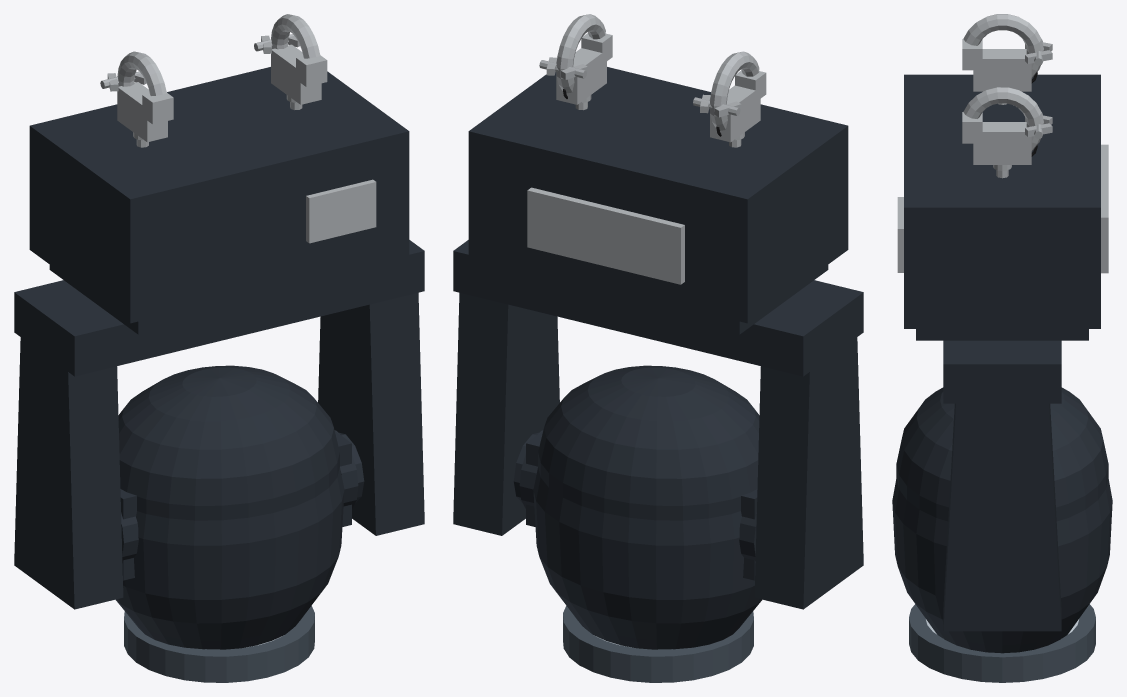
File: moving-head-wash.glb
The picture shows the model from 3 angles, left to right: view 1: azimuth 30°, elevation 25°; view 2: azimuth 150°, elevation 25°; view 3: azimuth 270°, elevation 25°; orthographic projection. The views are drawn at different scales.
Visible parts, largest first — view 1: moving-base, head-body, yoke-left, yoke-right, yoke-crossbar, truss-coupler, lens-ring, base-display, head-cheeks, truss-coupler-bolt; view 2: moving-base, head-body, yoke-left, yoke-right, yoke-crossbar, base-connectors, truss-coupler, lens-ring, head-cheeks, truss-coupler-bolt; view 3: moving-base, yoke-right, head-body, truss-coupler, yoke-crossbar, lens-ring, base-connectors, truss-coupler-bolt, base-display.
Boxes of the visible parts, x1,y1,x2,y2 form: moving-base: (29, 67, 409, 334); head-body: (116, 365, 344, 649); yoke-left: (14, 337, 123, 609); yoke-right: (318, 292, 424, 535); yoke-crossbar: (14, 240, 424, 376); truss-coupler: (117, 14, 327, 147); lens-ring: (124, 606, 314, 682); base-display: (306, 179, 376, 243); head-cheeks: (120, 430, 358, 580); truss-coupler-bolt: (100, 34, 299, 91); moving-base: (468, 67, 848, 334); head-body: (533, 365, 761, 649); yoke-left: (754, 337, 863, 609); yoke-right: (453, 292, 559, 535); yoke-crossbar: (453, 240, 863, 376); base-connectors: (527, 187, 684, 284); truss-coupler: (556, 14, 766, 147); lens-ring: (563, 606, 753, 682); head-cheeks: (519, 430, 757, 580); truss-coupler-bolt: (539, 57, 741, 117); moving-base: (904, 74, 1100, 340); yoke-right: (943, 403, 1061, 631); head-body: (892, 387, 1112, 653); truss-coupler: (962, 14, 1043, 178); yoke-crossbar: (943, 340, 1061, 403); lens-ring: (909, 604, 1095, 682); base-connectors: (1101, 144, 1108, 273); truss-coupler-bolt: (1025, 40, 1052, 138); base-display: (897, 197, 903, 272).
Size of the model in its own units: 0.502 by 0.8307 by 0.28.
